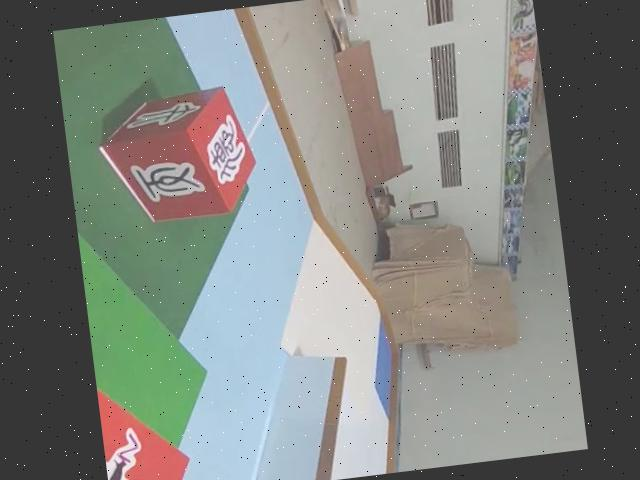R1: (94, 361, 198, 480)
R2 Fake: (96, 83, 262, 226)
